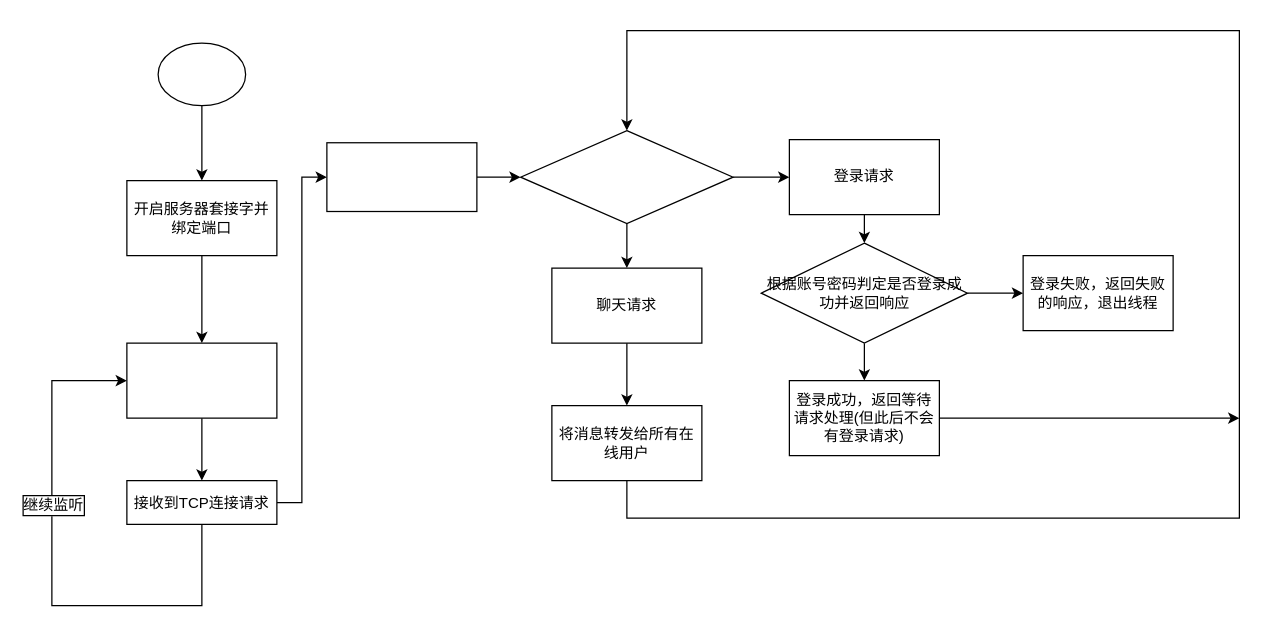
The diagram is 1271 pixels wide and 638 high, and some of its shapes have lost their labels. The shapes that lost their labels are listed below. From the top down, each one's centre as x and y in pixels, then its label:
At (201,74): "server".
At (401,177): "开启一个新的线程处理用户请求".
At (626,176): "根据请求类型采取对应处理".
At (201,380): "8090端口监听TCP连接".
